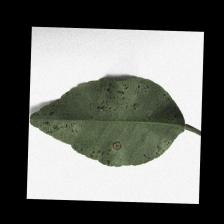canker: (91, 88, 142, 114)
